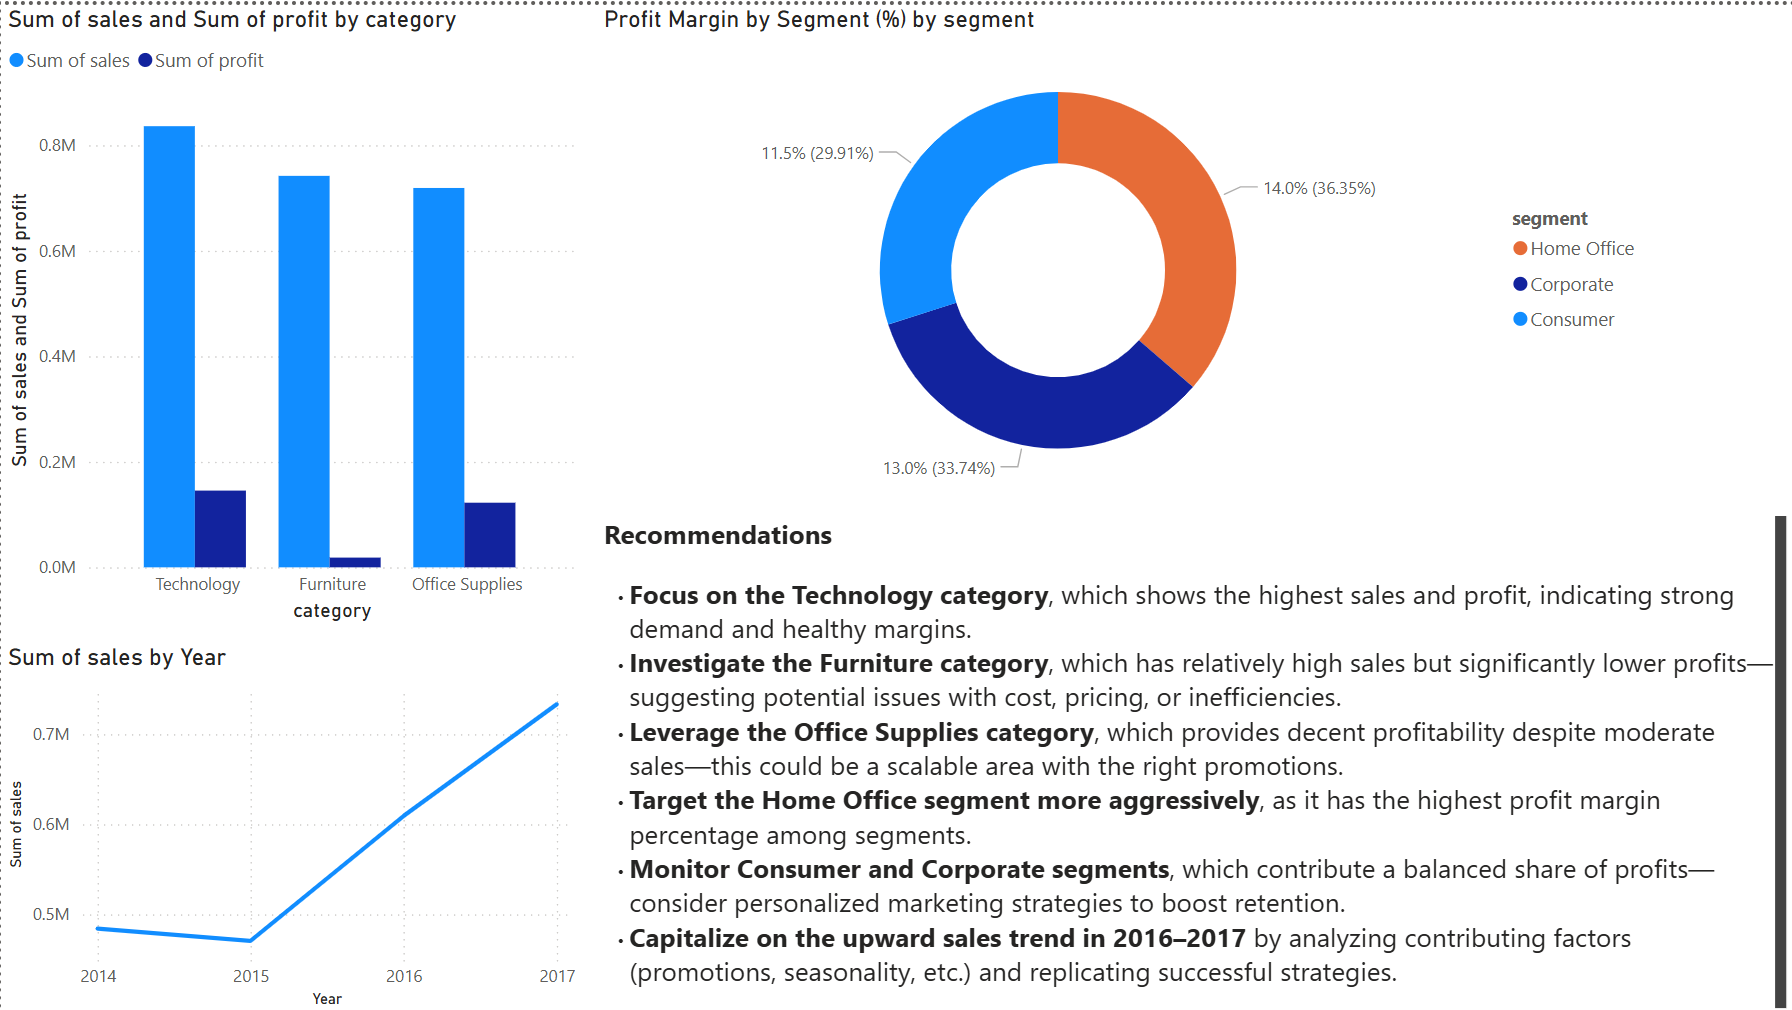

The page's visual inventory and layout, read from the dashboard file:
{"tool":"powerbi","page":{"name":"Page 1","canvas":[1280,720],"ordinal":0},"visuals":[{"type":"clusteredColumnChart","fields":{"Category":["cleaned_superstore.category"],"Y":["Sum(cleaned_superstore.sales)","Sum(cleaned_superstore.profit)"]},"box":[0,0,415,445],"z":0},{"type":"lineChart","fields":{"Category":["cleaned_superstore.order_date.Variation.Date Hierarchy.Year","cleaned_superstore.order_date.Variation.Date Hierarchy.Quarter","cleaned_superstore.order_date.Variation.Date Hierarchy.Month","cleaned_superstore.order_date.Variation.Date Hierarchy.Day"],"Y":["Sum(cleaned_superstore.sales)"]},"box":[0,455,415,265],"z":1},{"type":"donutChart","fields":{"Category":["cleaned_superstore.segment"],"Y":["Top10SubCategories.Profit Margin"]},"box":[425.7,0,755.7,360],"z":2},{"type":"textbox","box":[425.7,360,854.3,362.9],"z":3}]}

Visuals, with their boxes in screenshot pixels (x1, y1, x2, y2), scaled from the page's 1280x720 canvas onto the 1792x1010 screenshot:
clusteredColumnChart - cleaned_superstore.category x Sum(cleaned_superstore.sales): bbox=[0, 0, 581, 624]
lineChart - cleaned_superstore.order_date.Variation.Date Hierarchy.Year x cleaned_superstore.order_date.Variation.Date Hierarchy.Quarter: bbox=[0, 638, 581, 1009]
donutChart - cleaned_superstore.segment x Top10SubCategories.Profit Margin: bbox=[596, 0, 1654, 505]
textbox: bbox=[596, 505, 1791, 1009]
